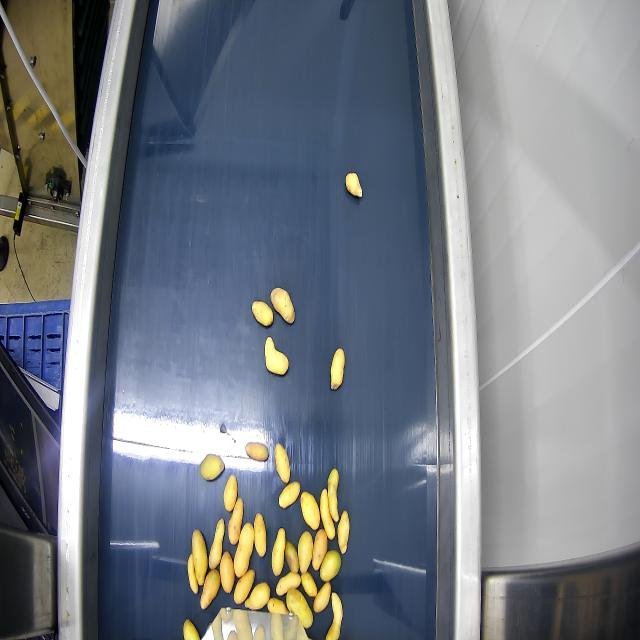Baby Potato: (234, 522, 254, 578), (286, 589, 312, 629), (265, 337, 288, 375), (192, 529, 207, 585), (200, 569, 220, 610), (271, 288, 294, 323), (233, 569, 255, 604), (326, 592, 342, 639), (320, 489, 335, 539), (209, 519, 224, 569), (300, 492, 319, 529), (228, 498, 243, 544), (245, 583, 270, 610), (320, 550, 341, 582), (312, 529, 328, 571), (272, 528, 285, 575), (298, 532, 313, 572), (200, 455, 224, 480), (275, 443, 290, 483), (331, 348, 345, 390), (313, 582, 331, 614), (220, 552, 234, 593), (252, 301, 274, 327), (279, 481, 300, 508), (276, 573, 300, 596), (328, 469, 338, 522), (254, 513, 266, 557), (223, 474, 237, 511), (338, 511, 349, 553), (301, 572, 317, 598), (188, 553, 198, 594), (285, 541, 298, 572), (246, 443, 268, 461), (345, 173, 361, 197), (267, 598, 288, 615), (183, 619, 199, 639)
